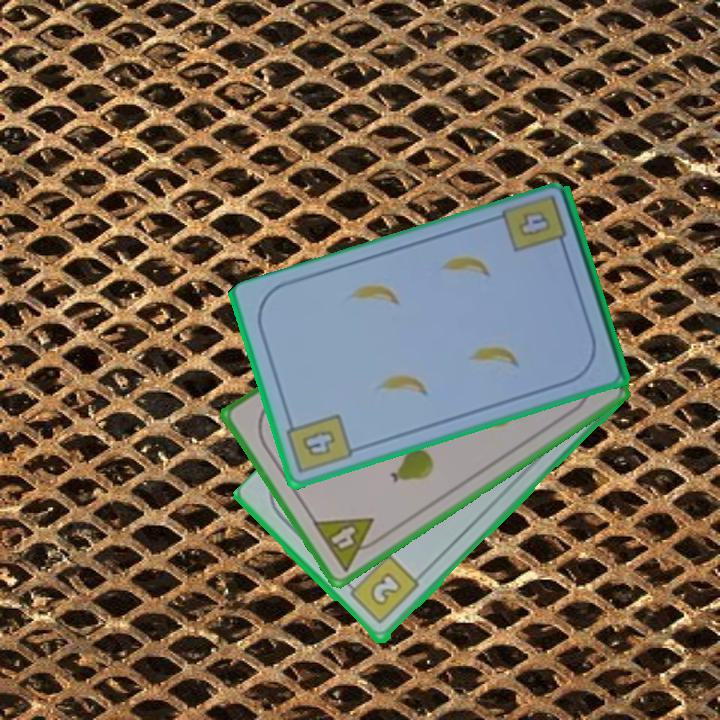2b: (342, 552, 423, 628)
4b: (283, 410, 355, 477), (514, 207, 554, 241)
4p: (309, 514, 388, 575)
